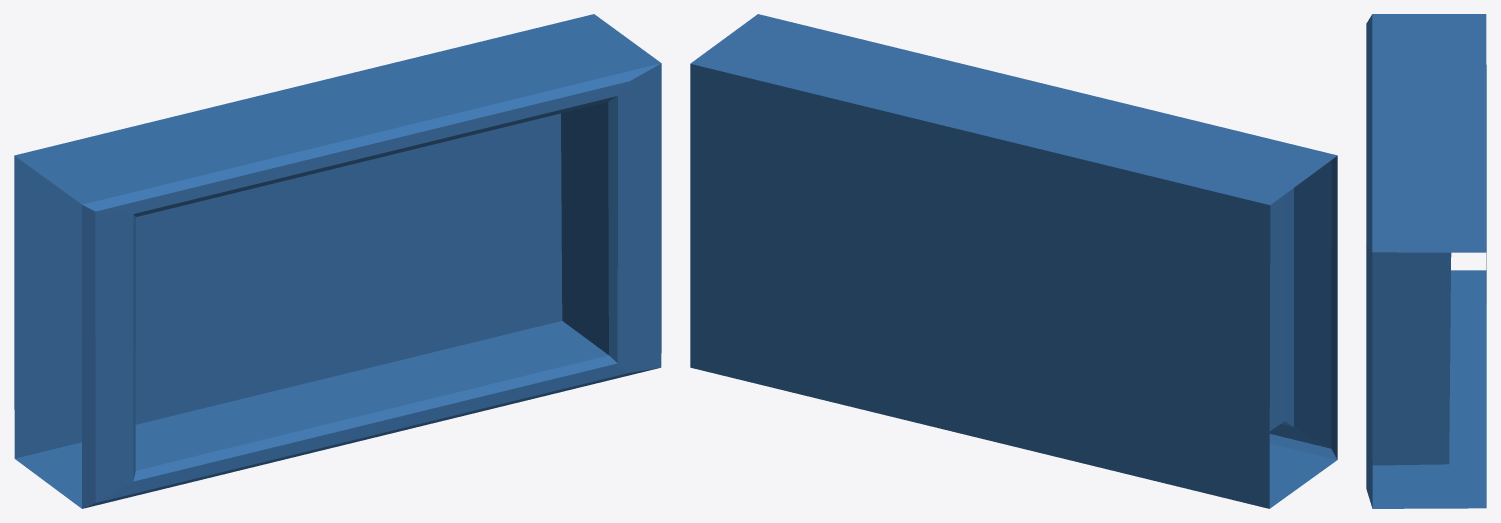
File: Big_box.fbx
3 views of the same model, side by side, from view 1: azimuth 30°, elevation 25°; view 2: azimuth 150°, elevation 25°; view 3: azimuth 270°, elevation 25° (orthographic). The views are drawn at different scales.
Parts seen in each view (by area): view 1: Big_box; view 2: Big_box; view 3: Big_box.
Part boxes in pixels (x1,y1,x2,y2): Big_box: (14,14,661,508); Big_box: (690,14,1337,508); Big_box: (1366,14,1486,508).
Size of the model in its own units: 685 by 344 by 146.
